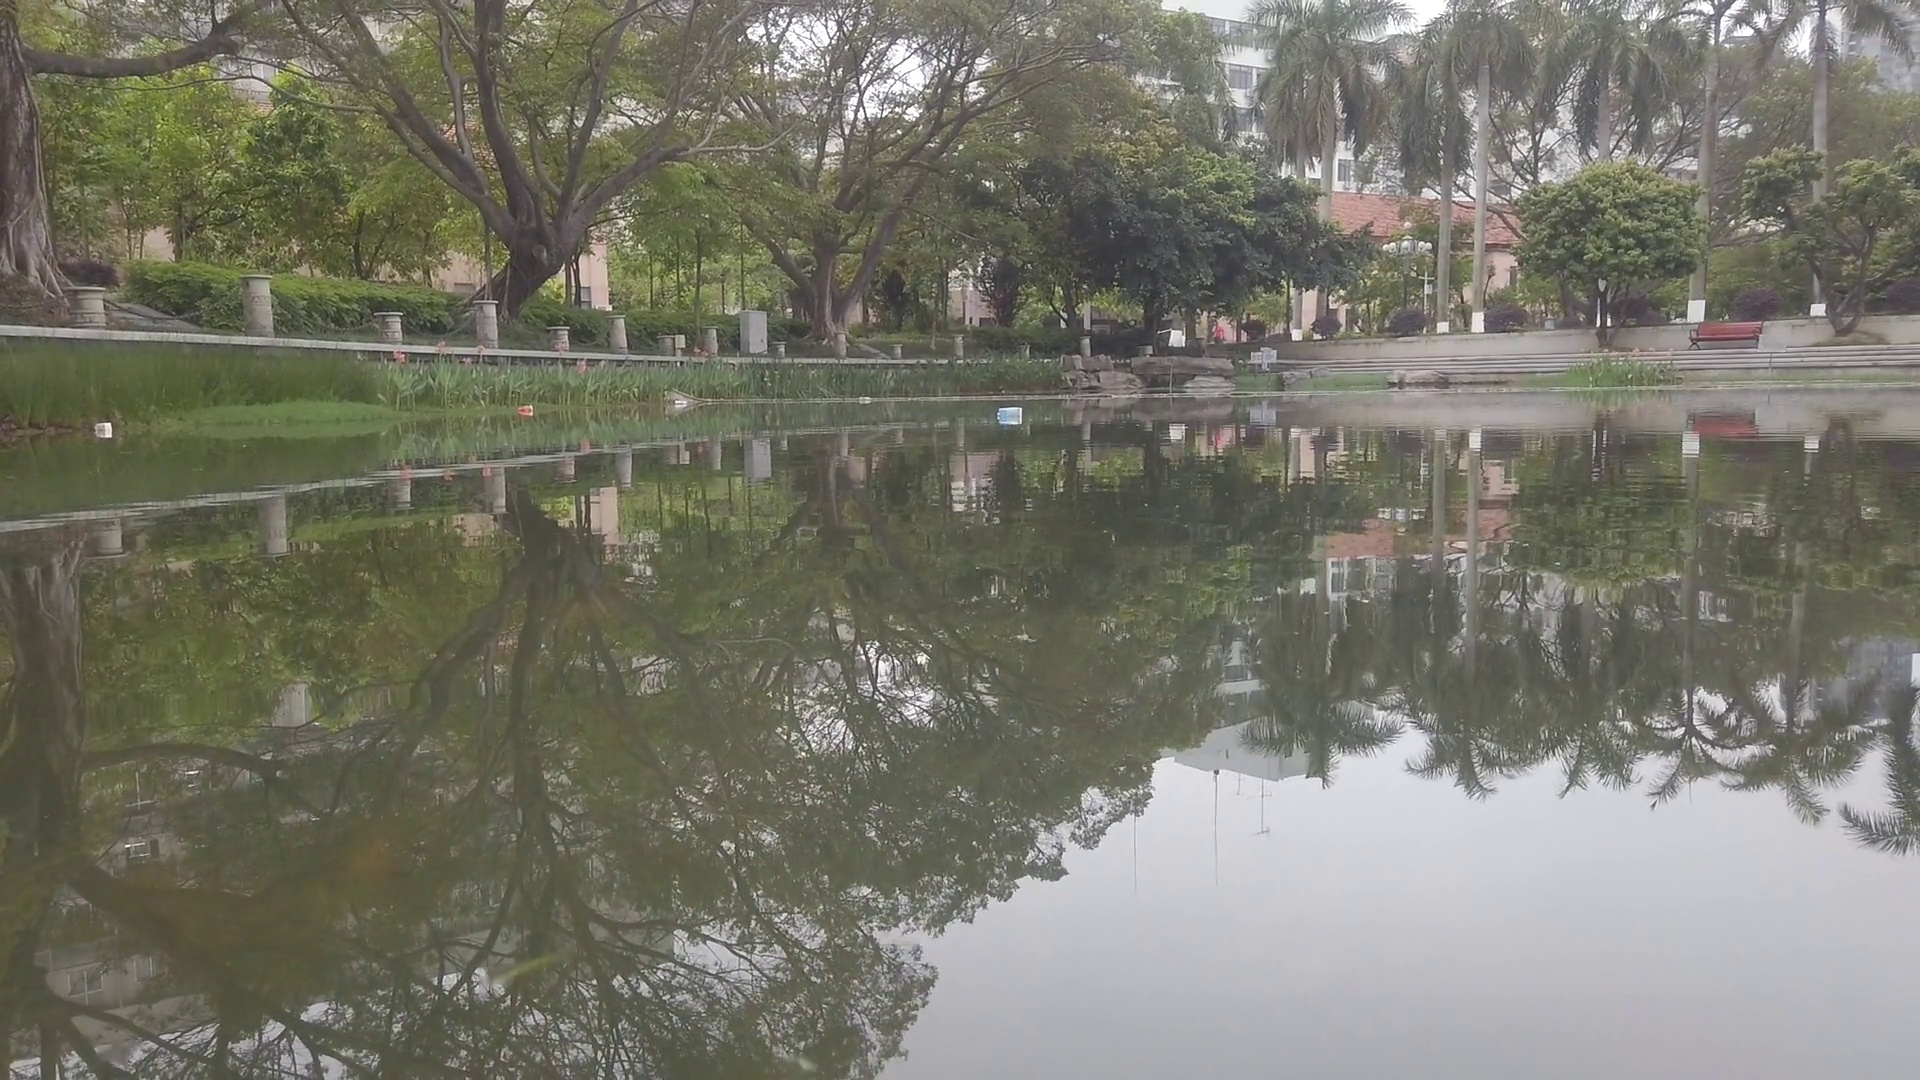bottle: (517, 405, 533, 414), (674, 400, 688, 406), (858, 396, 872, 402)
carton: (996, 406, 1023, 422), (95, 421, 111, 435)
